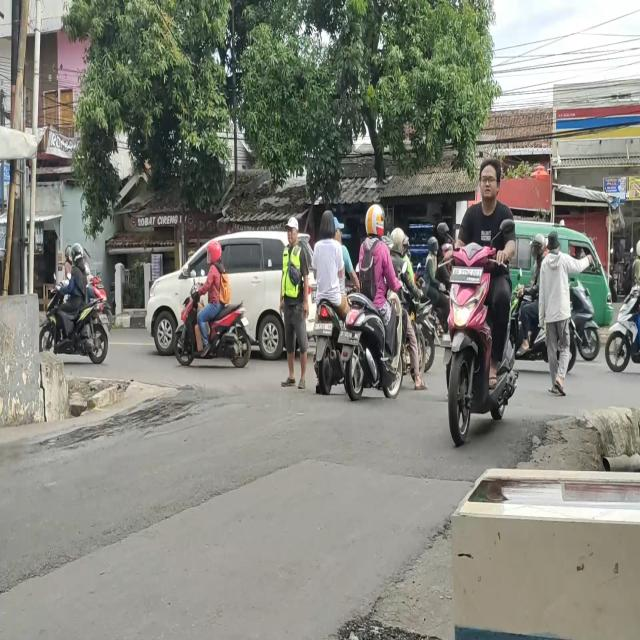helmet: (364, 202, 386, 235), (206, 239, 223, 267), (69, 243, 85, 269), (393, 229, 408, 256)
no-helmet: (479, 162, 500, 202), (318, 210, 336, 238), (331, 216, 345, 242)
